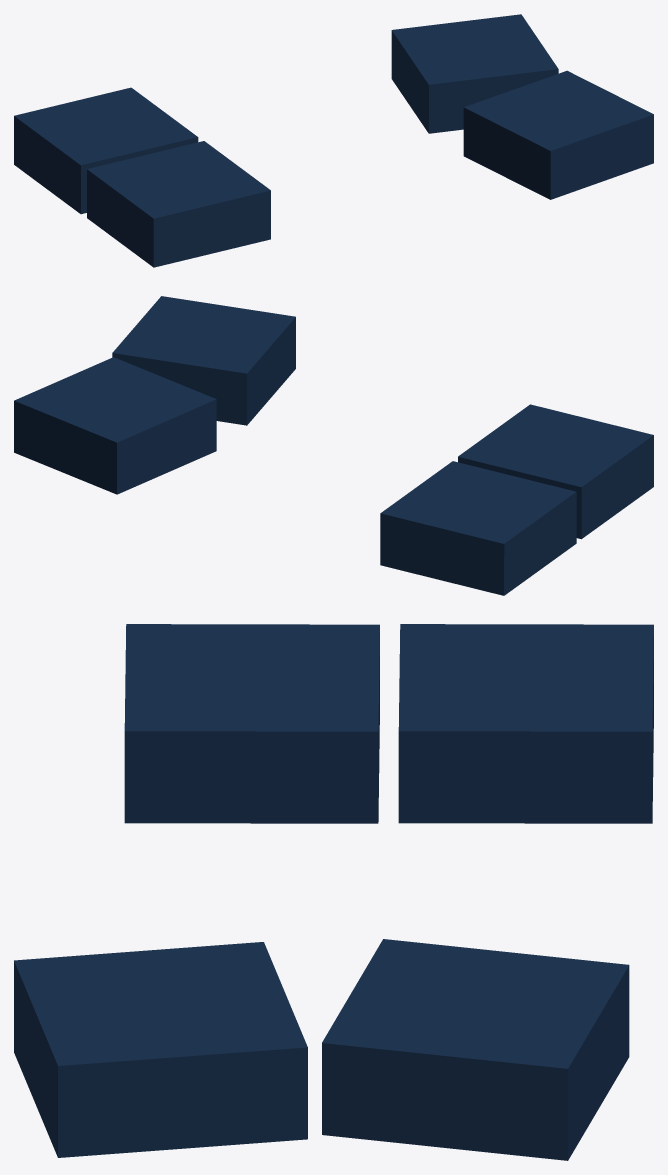
The model's file is Halls.fbx.
The picture shows the model from 3 angles, top to bottom: view 1: azimuth 30°, elevation 25°; view 2: azimuth 150°, elevation 25°; view 3: azimuth 270°, elevation 25°; orthographic projection. The views are drawn at different scales.
Visible parts, largest first — view 1: Halls; view 2: Halls; view 3: Halls.
Part boxes in pixels (x1=…): Halls: x1=14, y1=14, x2=653, y2=267; Halls: x1=14, y1=296, x2=653, y2=595; Halls: x1=14, y1=624, x2=653, y2=1160.
Bounding box in the file's own units: 1037274 × 100135 × 630532.
